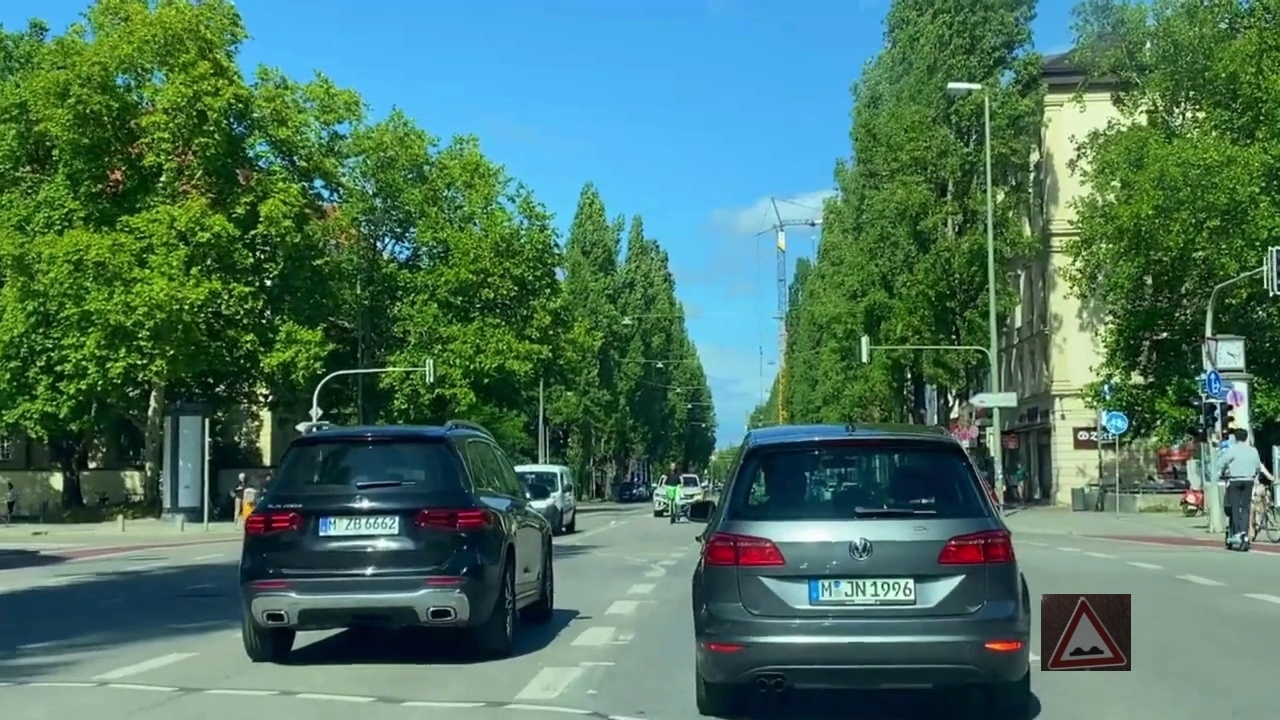Bumpy road: (1041, 594, 1131, 671)
